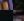legs: (0, 0, 13, 10)
